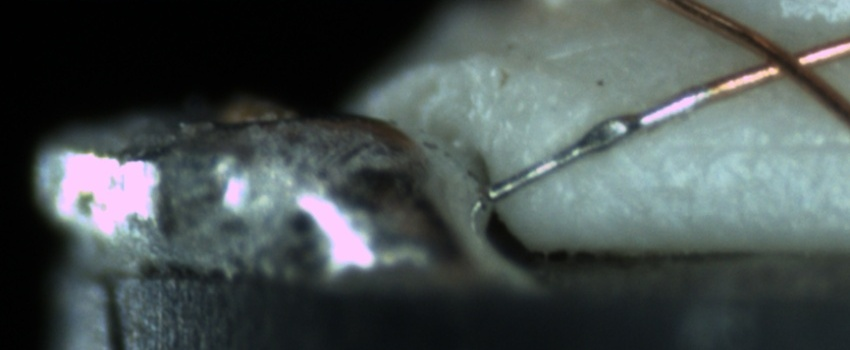CL: (738, 29, 839, 92)
DL: (660, 113, 850, 176)
TS: (486, 82, 711, 200)
TTCW: (483, 65, 761, 203)
